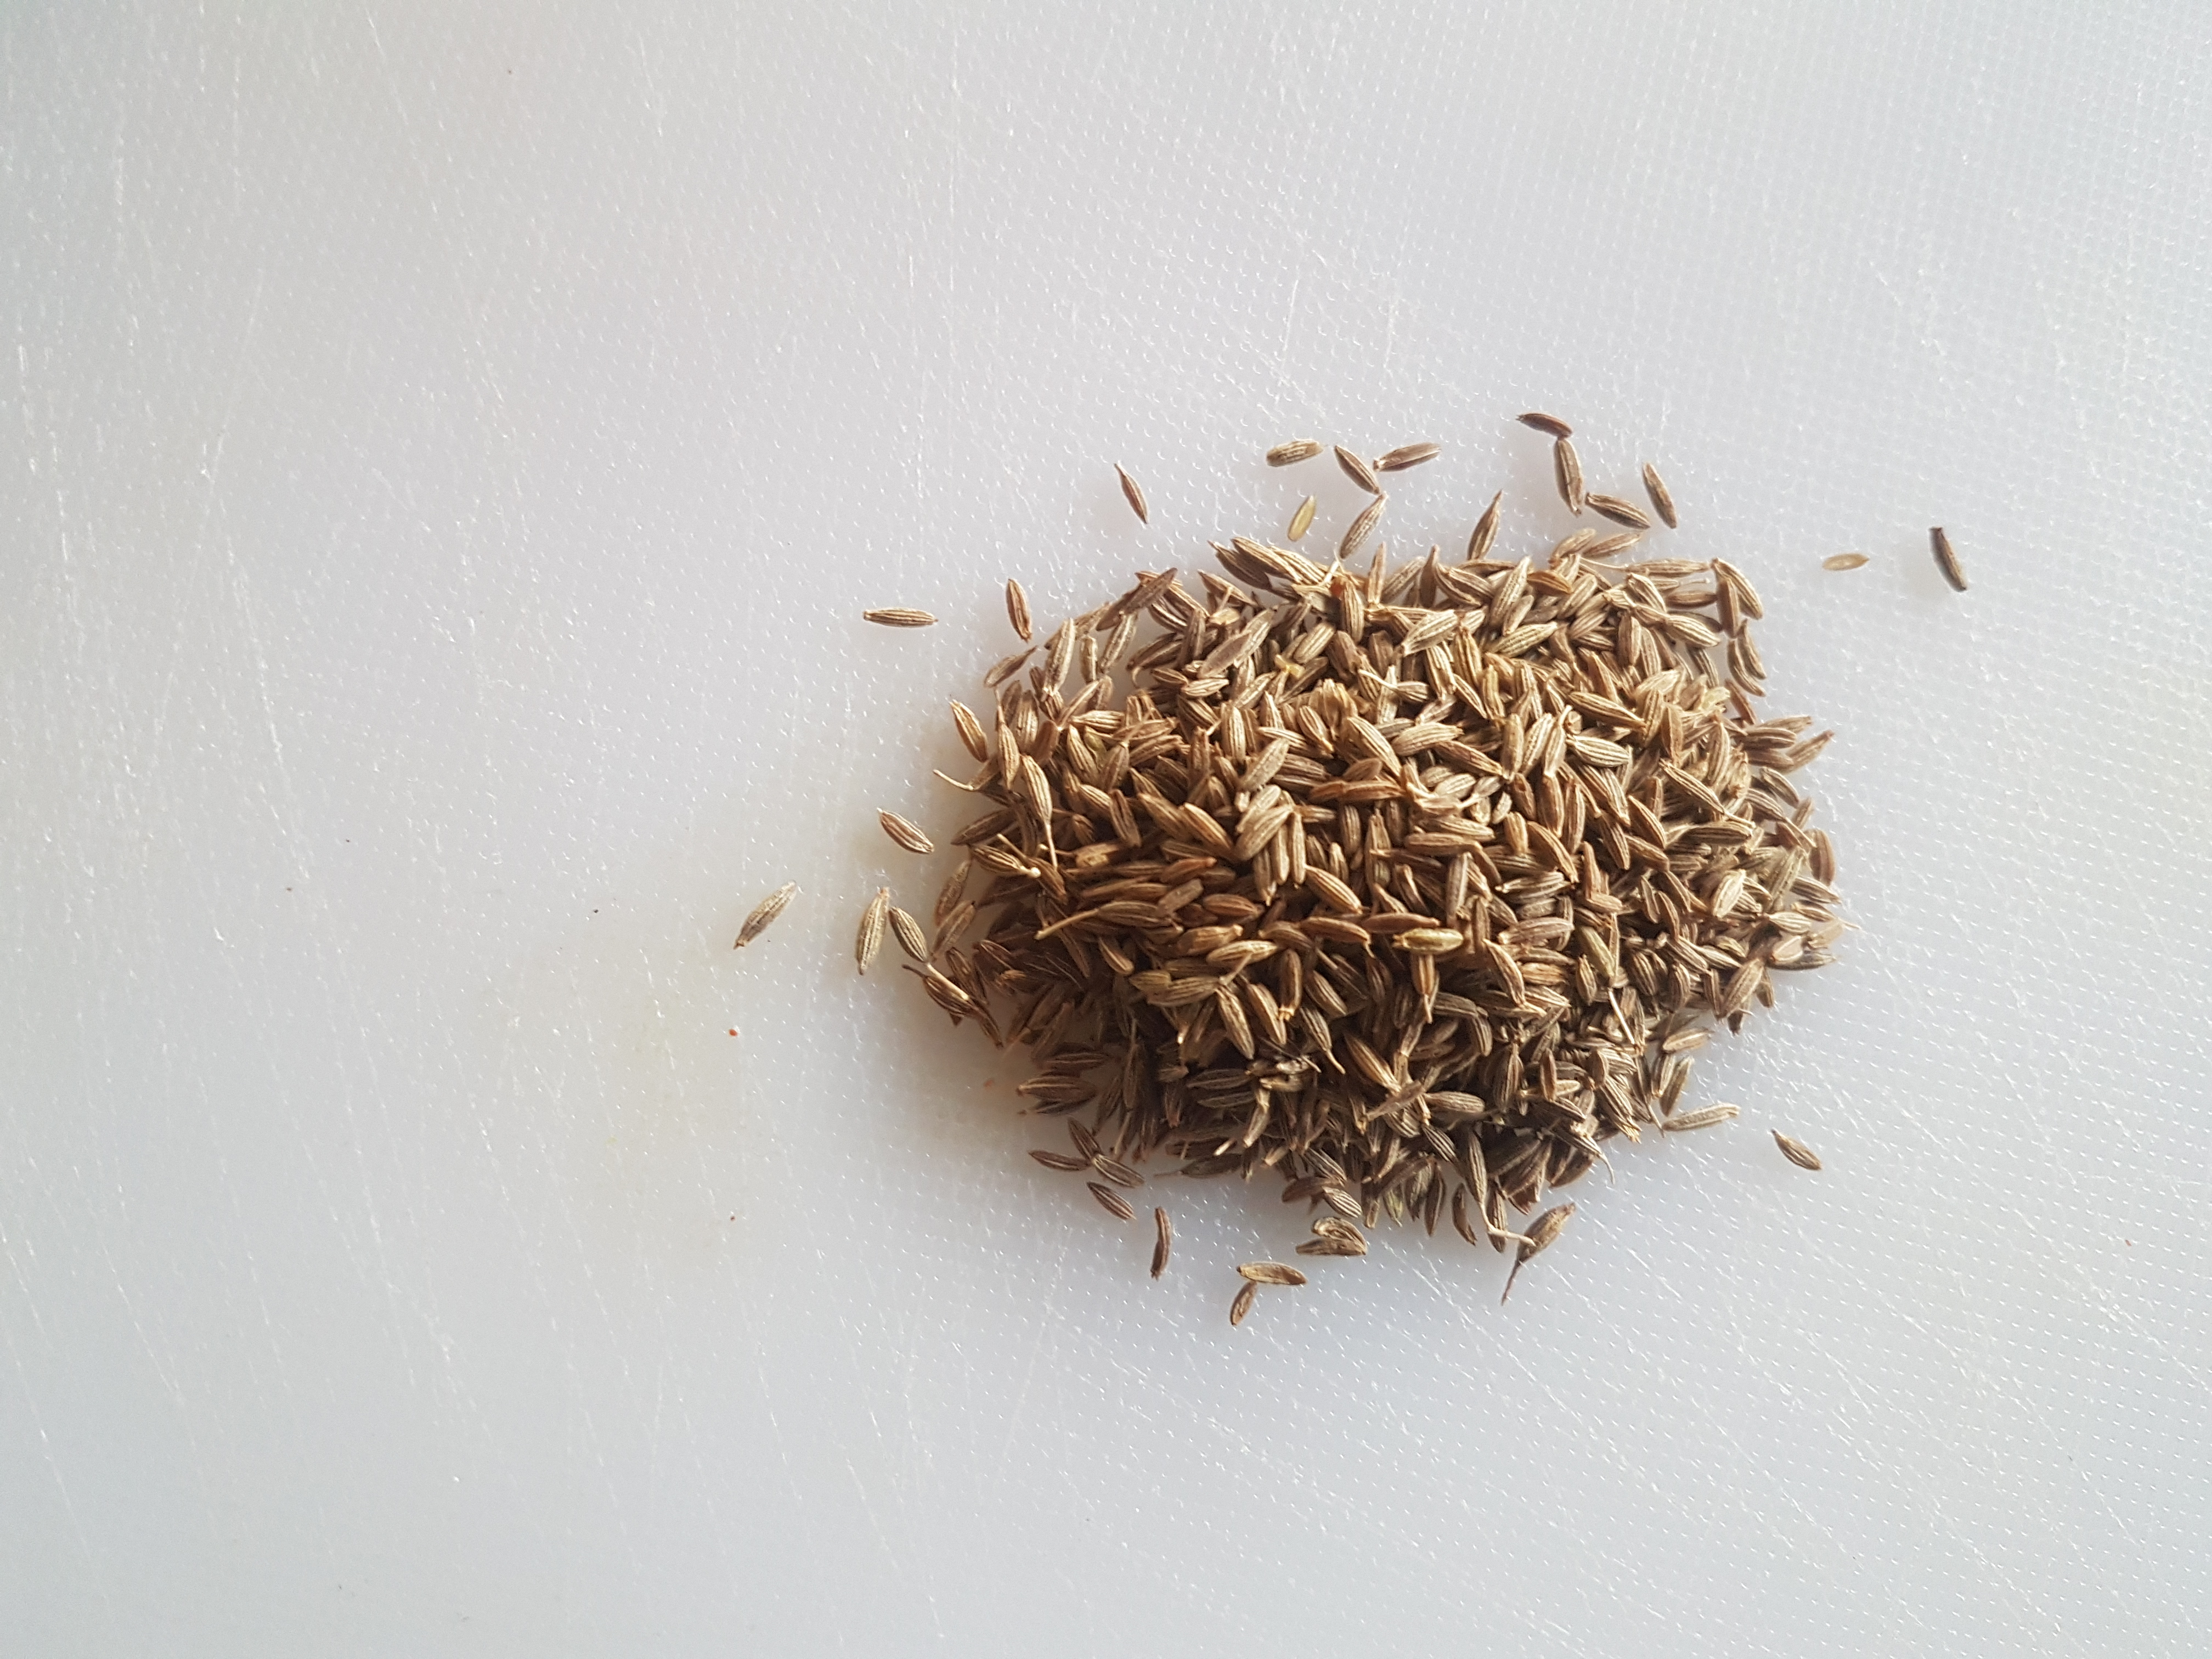Cumin (Zeera): (460, 328, 2008, 1317)
